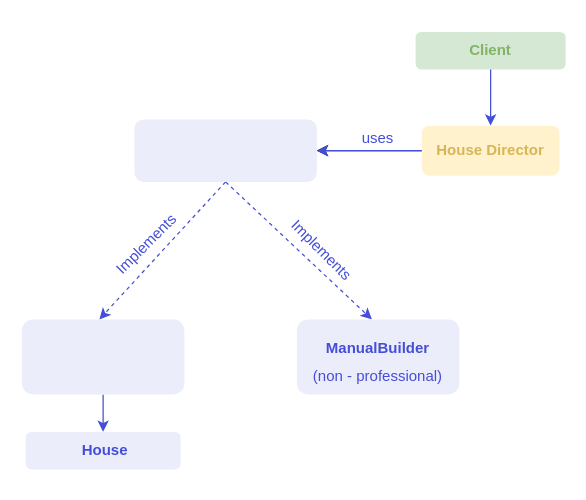
This 586x500 diagram has some shape labels left out. Each missing label, with the box of its shape:
HouseBuilder (Professional): (21, 319, 184, 394)
HouseBuilderInterface: (134, 119, 316, 181)
